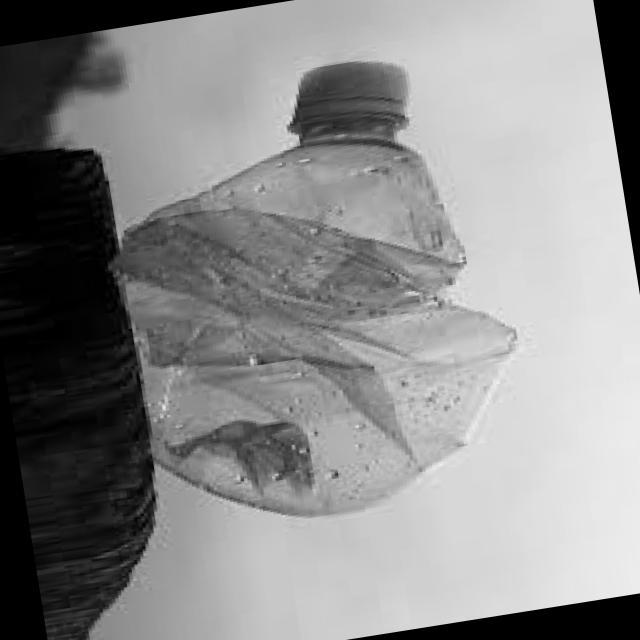defected: (75, 34, 542, 549)
